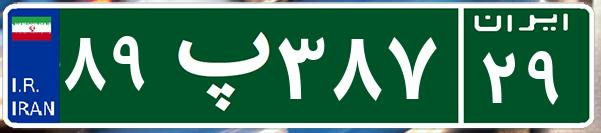2: (475, 38, 525, 113)
3: (273, 28, 330, 110)
7: (385, 28, 445, 110)
8: (330, 28, 385, 110), (57, 26, 110, 107)
9: (110, 28, 158, 105), (525, 38, 570, 115)
پ: (158, 15, 273, 115)
